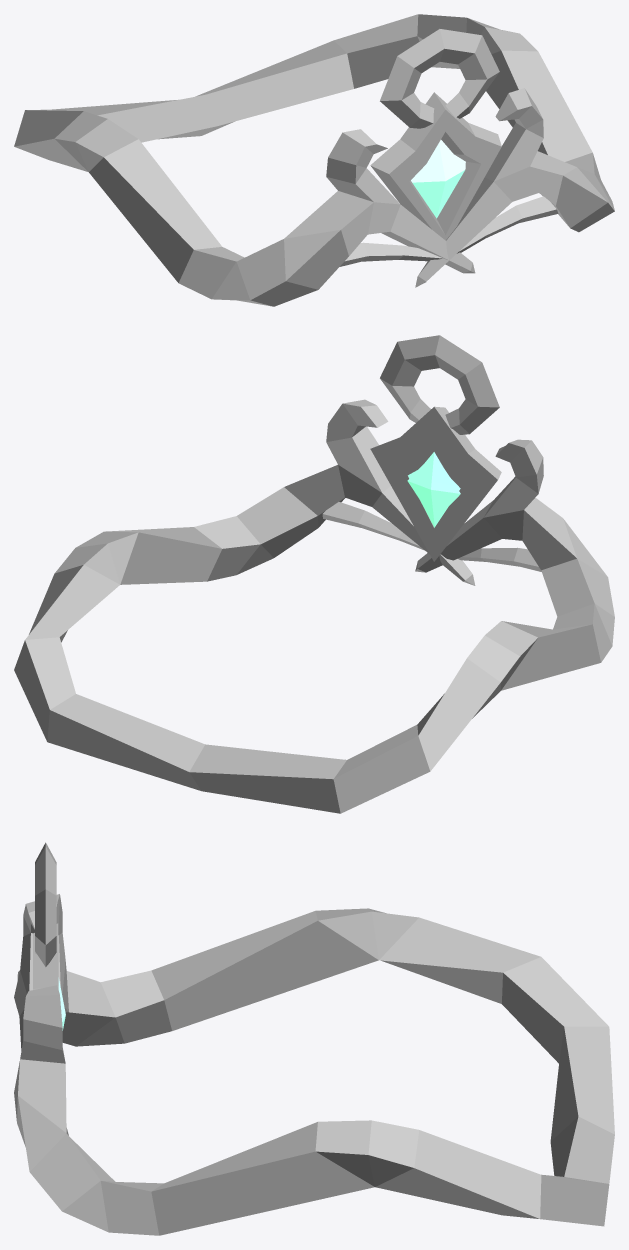
The model's file is Chr_Attach_Tiara_04.fbx.
3 renders of one model, top to bottom at view 1: azimuth 30°, elevation 25°; view 2: azimuth 150°, elevation 25°; view 3: azimuth 270°, elevation 25°, orthographic. The views are drawn at different scales.
Visible parts, largest first — view 1: Chr_Attach_Tiara_04; view 2: Chr_Attach_Tiara_04; view 3: Chr_Attach_Tiara_04.
Boxes of the visible parts, x1,y1,x2,y2 form: Chr_Attach_Tiara_04: [14, 14, 614, 306]; Chr_Attach_Tiara_04: [14, 335, 614, 813]; Chr_Attach_Tiara_04: [14, 842, 614, 1235].
Size of the model in its own units: 28.44 by 17.15 by 29.19.
